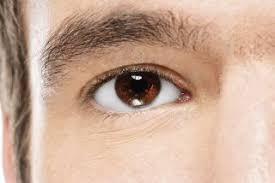pupil: (115, 71, 160, 107)
